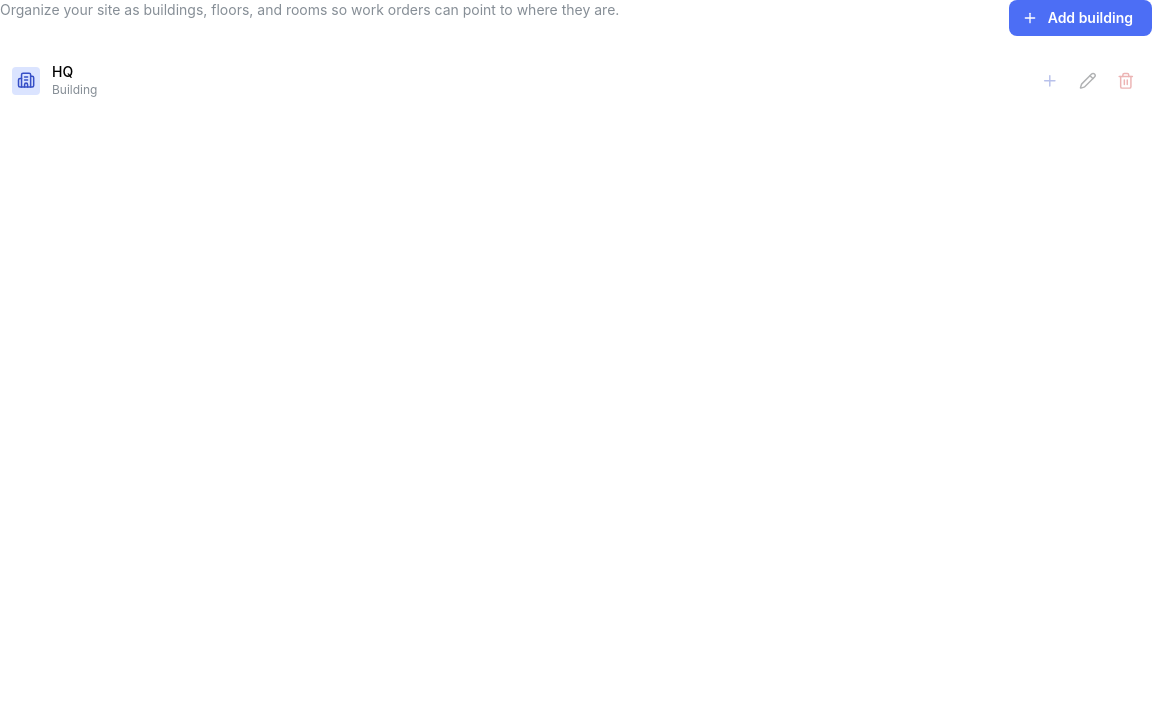
Test: LocationsAdmin › shows a friendly inline error when the server rejects a duplicate sibling name on create
# Act — add a floor whose name collides with an existing sibling.
Click the button named "Add inside HQ" at [1050, 80], box [1036,66,1064,94]
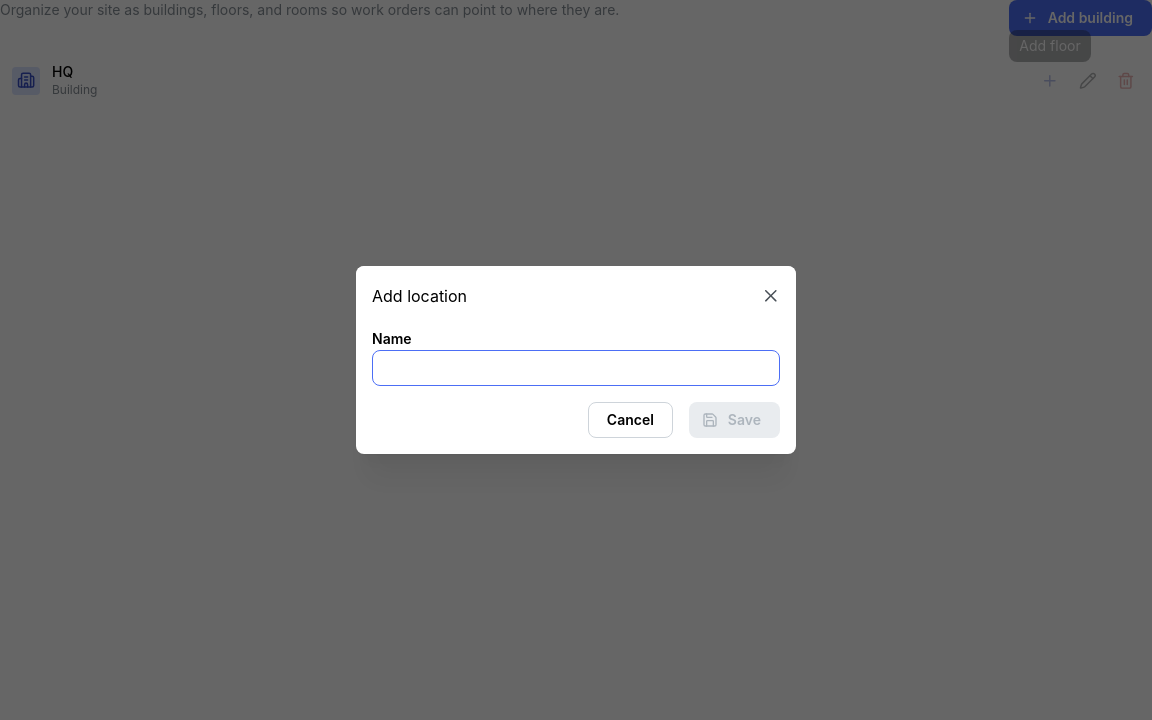
Type "Floor 2" into the field labelled "Name" at [576, 368], box [372,350,780,386]
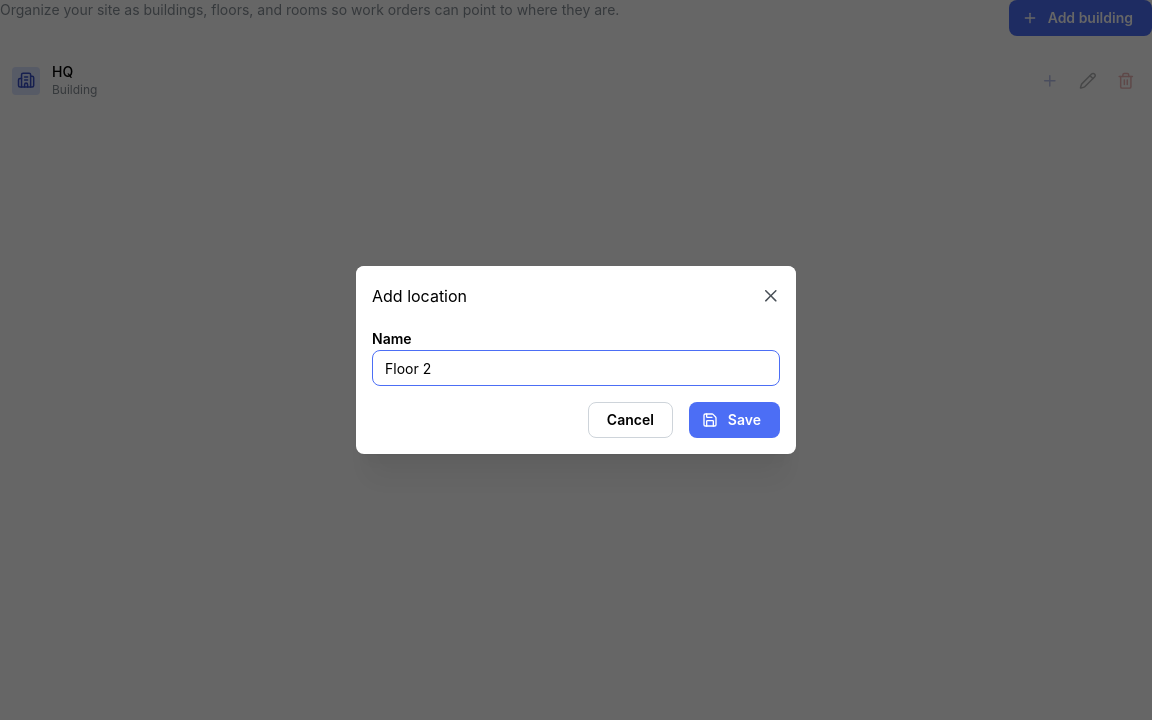
Click the button "Save" at [734, 420], box [689,402,780,438]
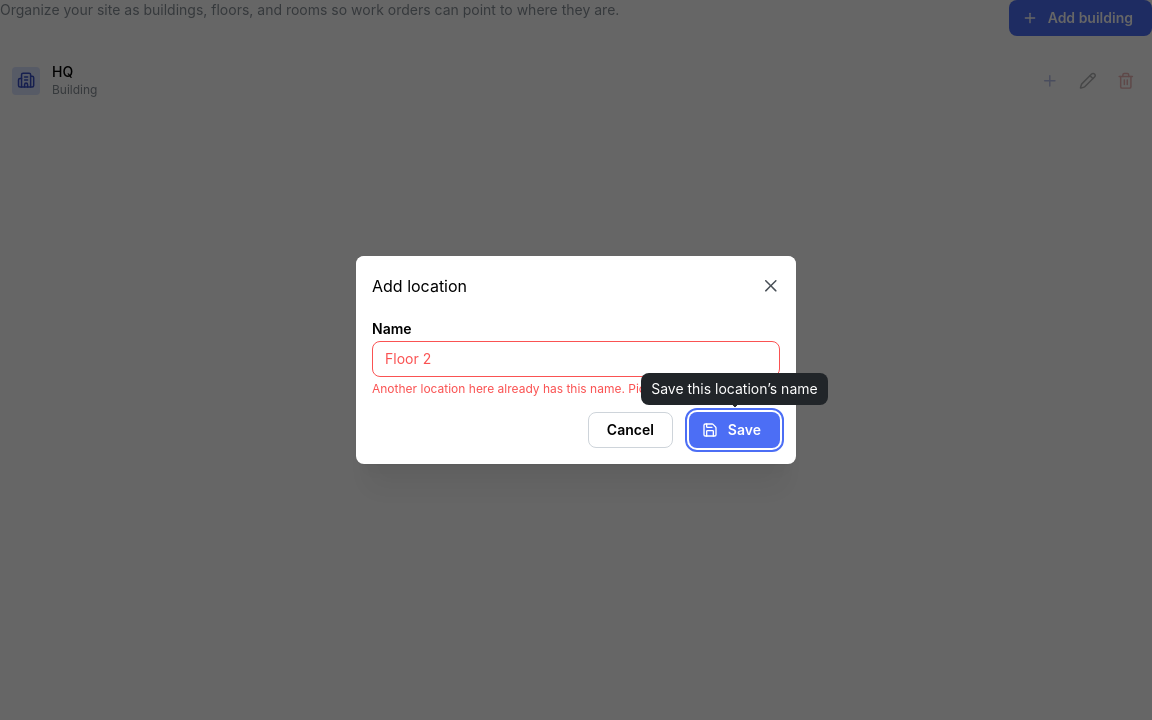
Expected: the dialog is shown, [356,256,796,464]
Expected: the text "Another location here already has this name. Pick a different name." is shown, [372,382,780,396]
# Typing again retracts the stale error.
Type "x" into the field labelled "Name" at [576, 359], box [372,341,780,377]
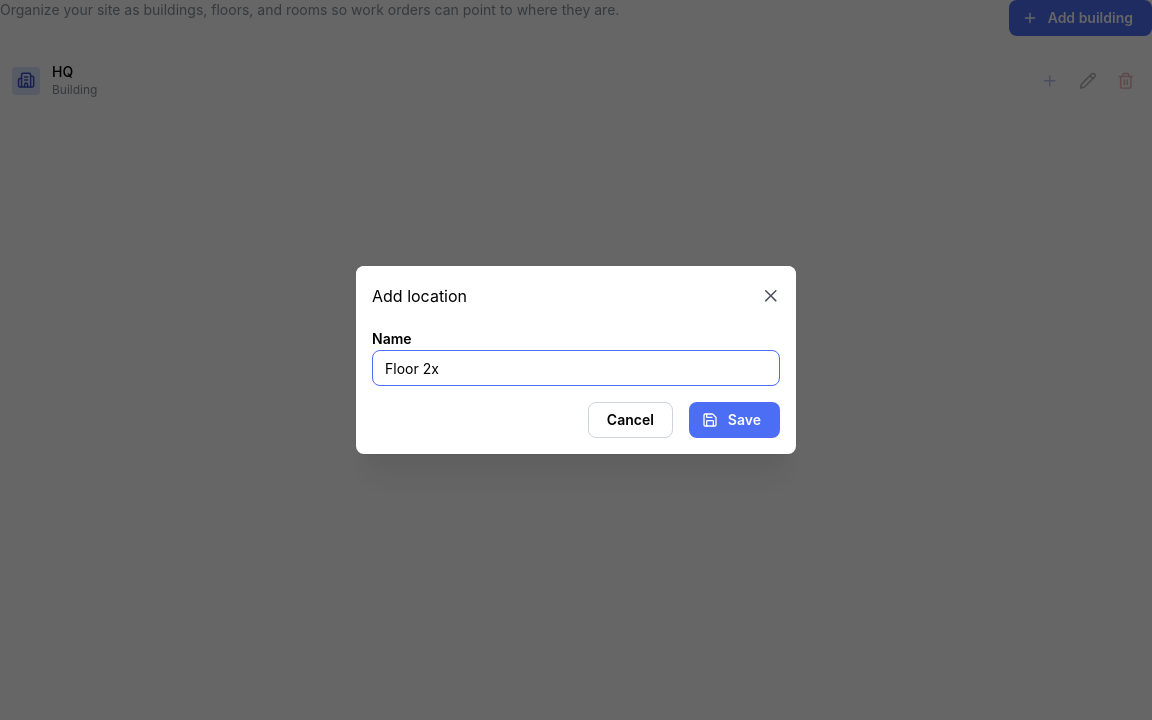
Expected: the text "Another location here already has this name. Pick a different name." is gone
